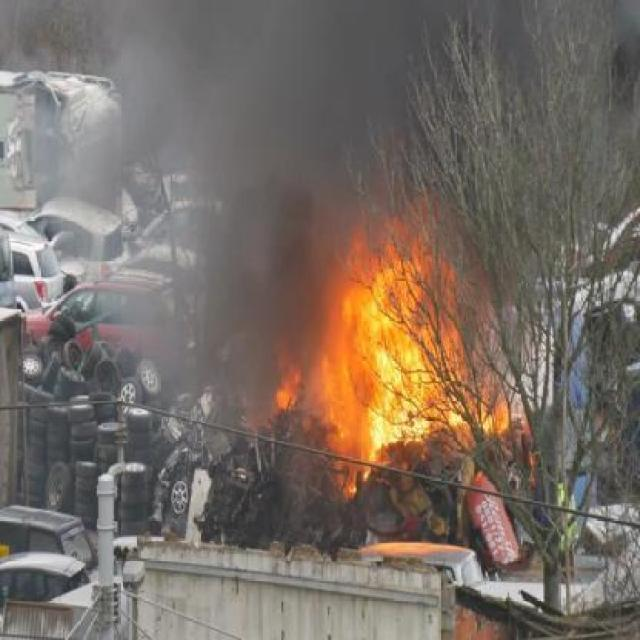Fire: (277, 218, 564, 546)
Smoke: (58, 12, 364, 248)
